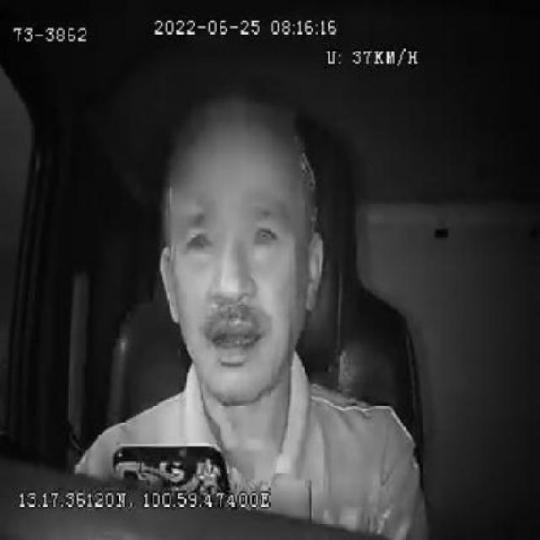phone: (110, 441, 232, 491)
